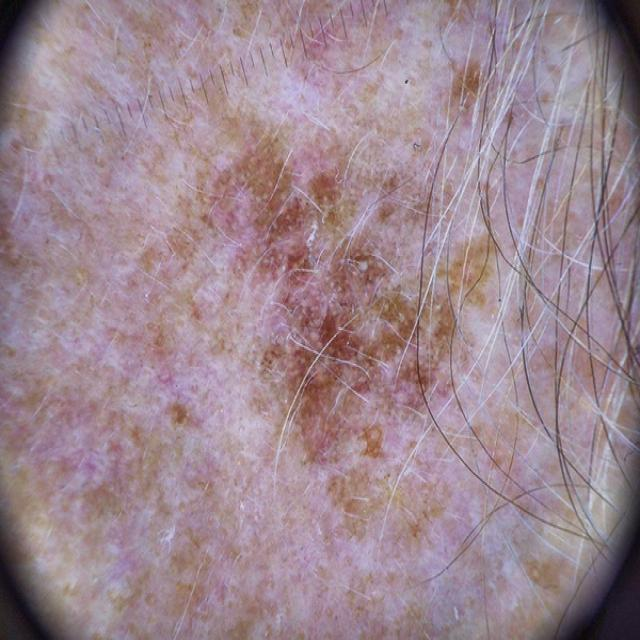Benign-Keratosis-like-Lesions-BKL-: (55, 52, 603, 553)
